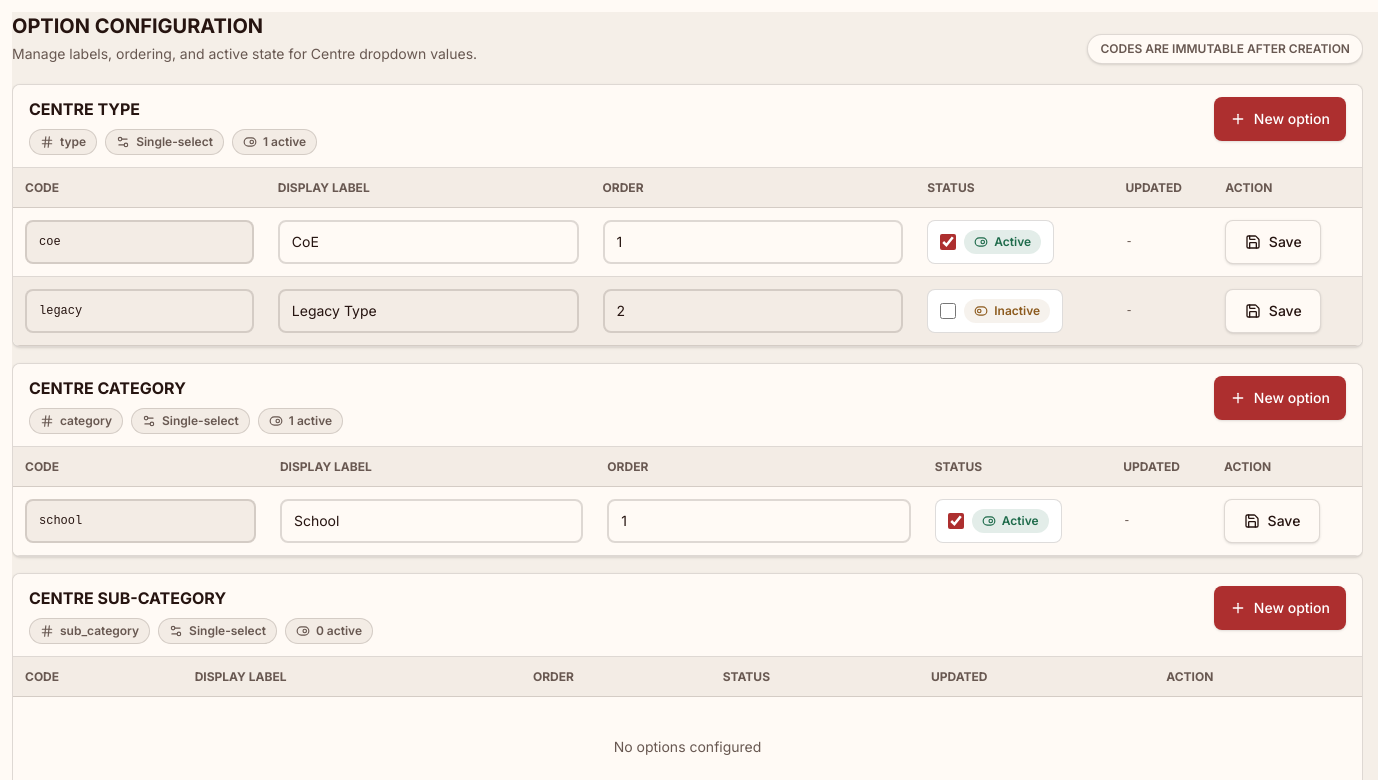
Test case: CentreOptionConfig › creates a new option with a suggested code that admins can confirm
Click the button "New option" in the row of "Centre Category": {"x": 1280, "y": 398} x1=1214 y1=376 x2=1346 y2=420
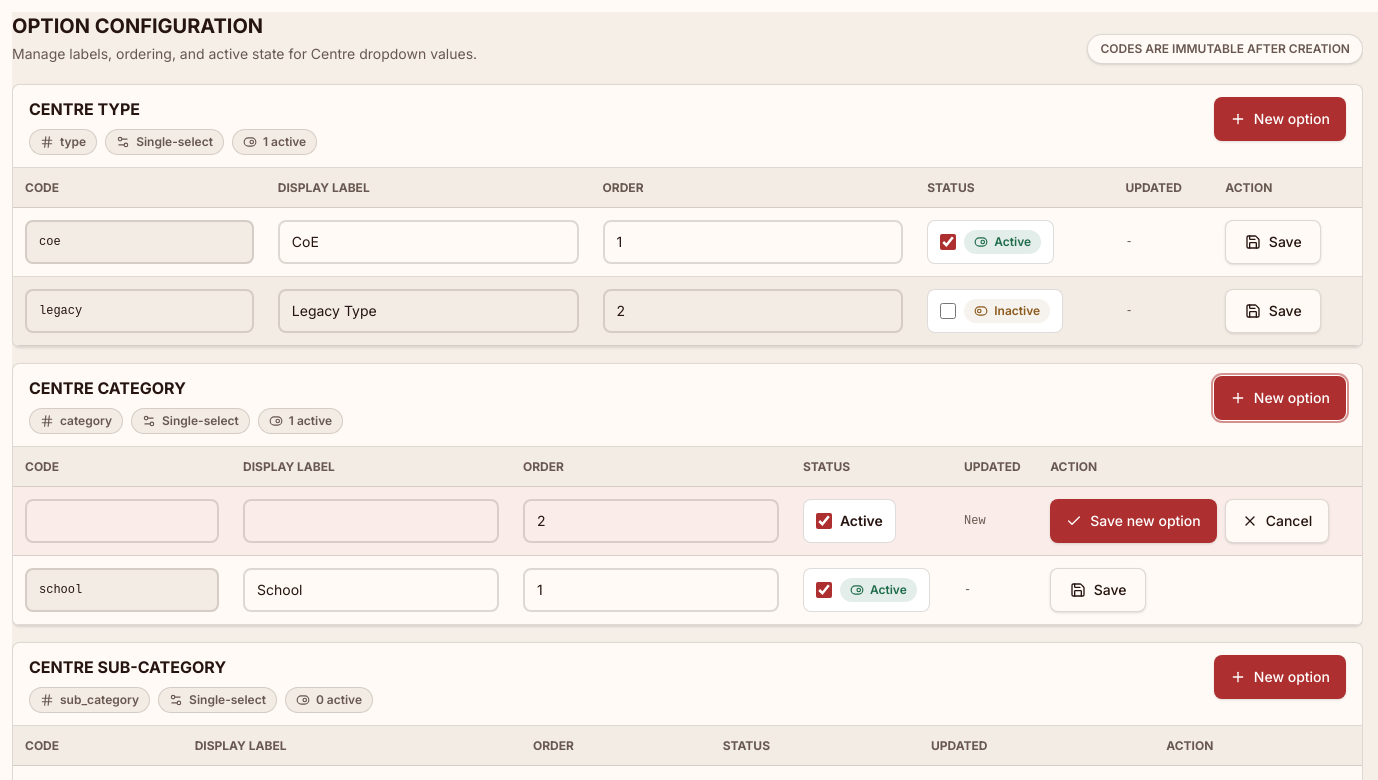
In the field named "New Centre Category label": {"x": 371, "y": 521} x1=243 y1=499 x2=499 y2=543, type "Residential Model"
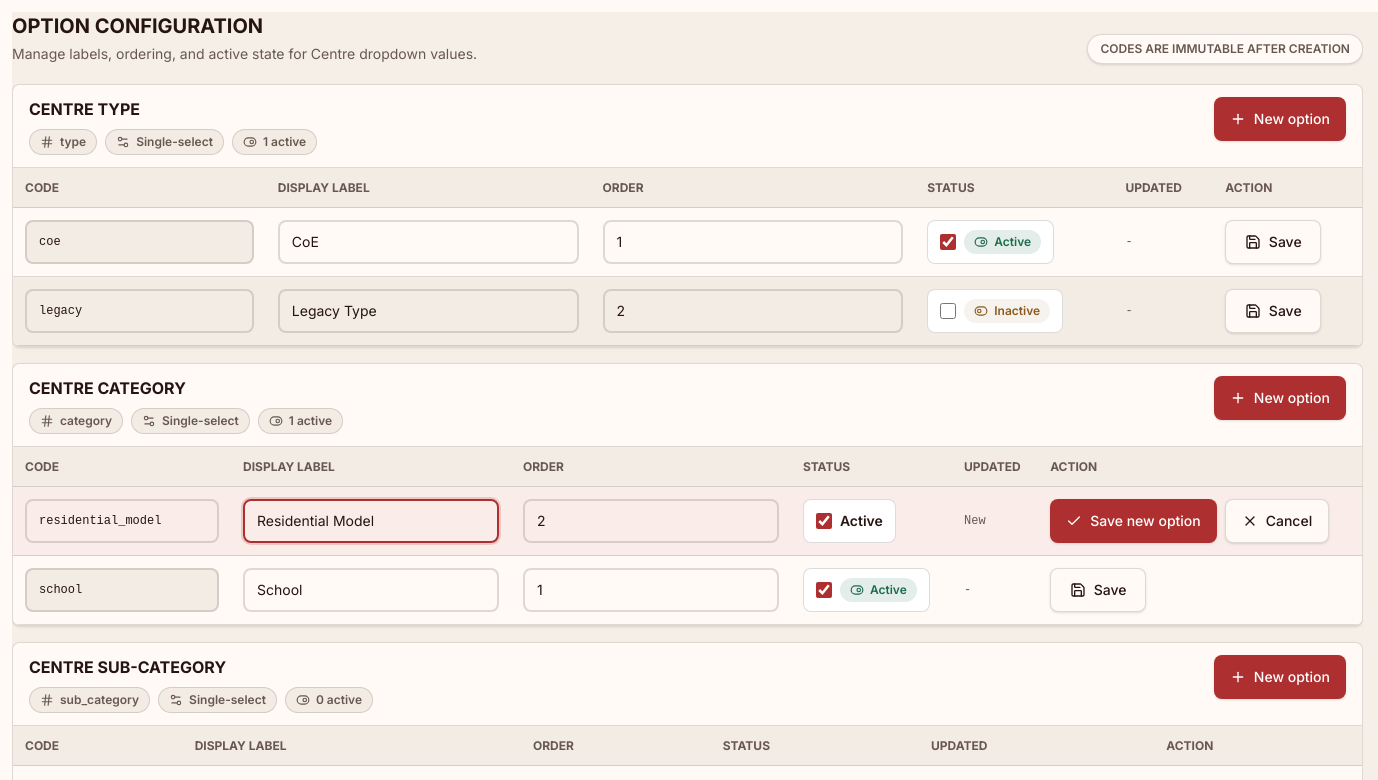
Result: the field named "New Centre Category code" holds "residential_model"
Replace the text in the field named "New Centre Category code" with "residential": {"x": 122, "y": 521} x1=25 y1=499 x2=219 y2=543
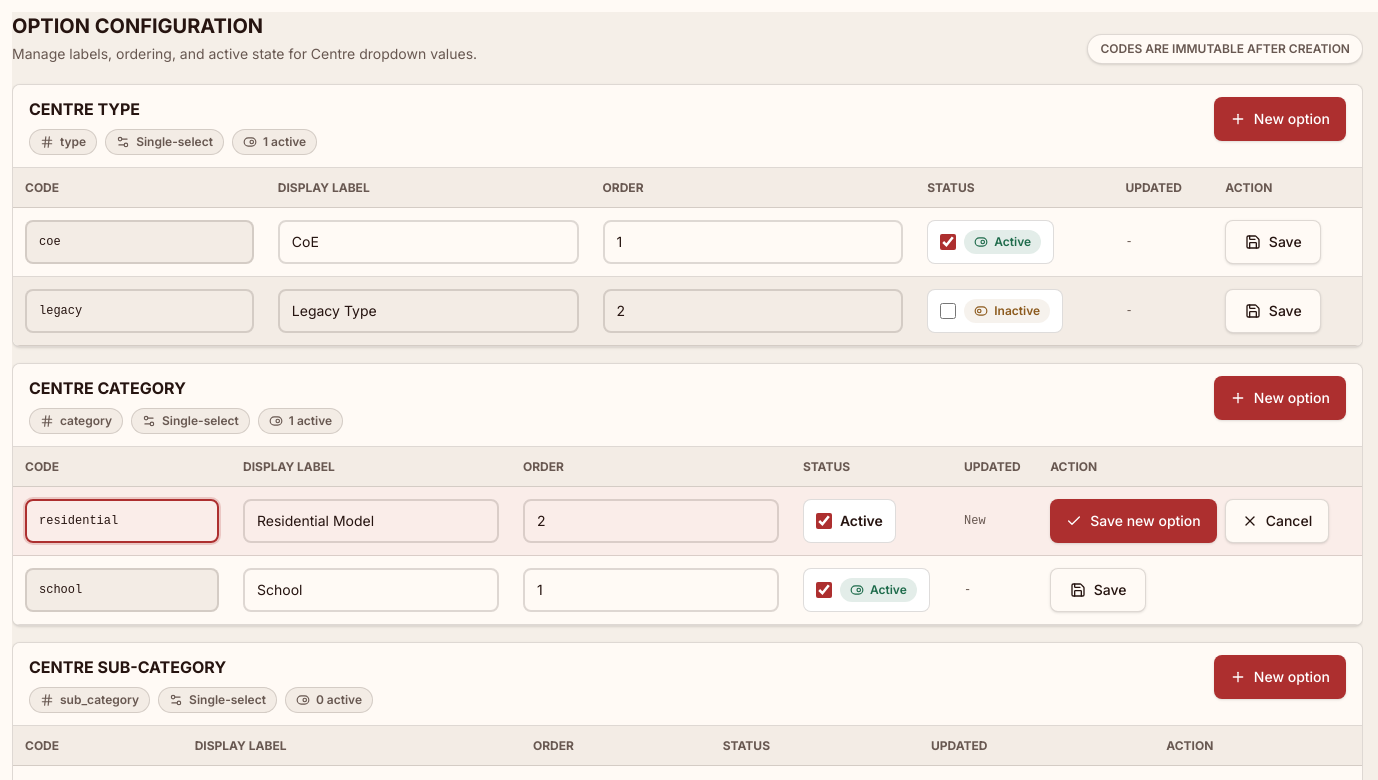
Click the button "Save new option": {"x": 1133, "y": 521} x1=1050 y1=499 x2=1217 y2=543
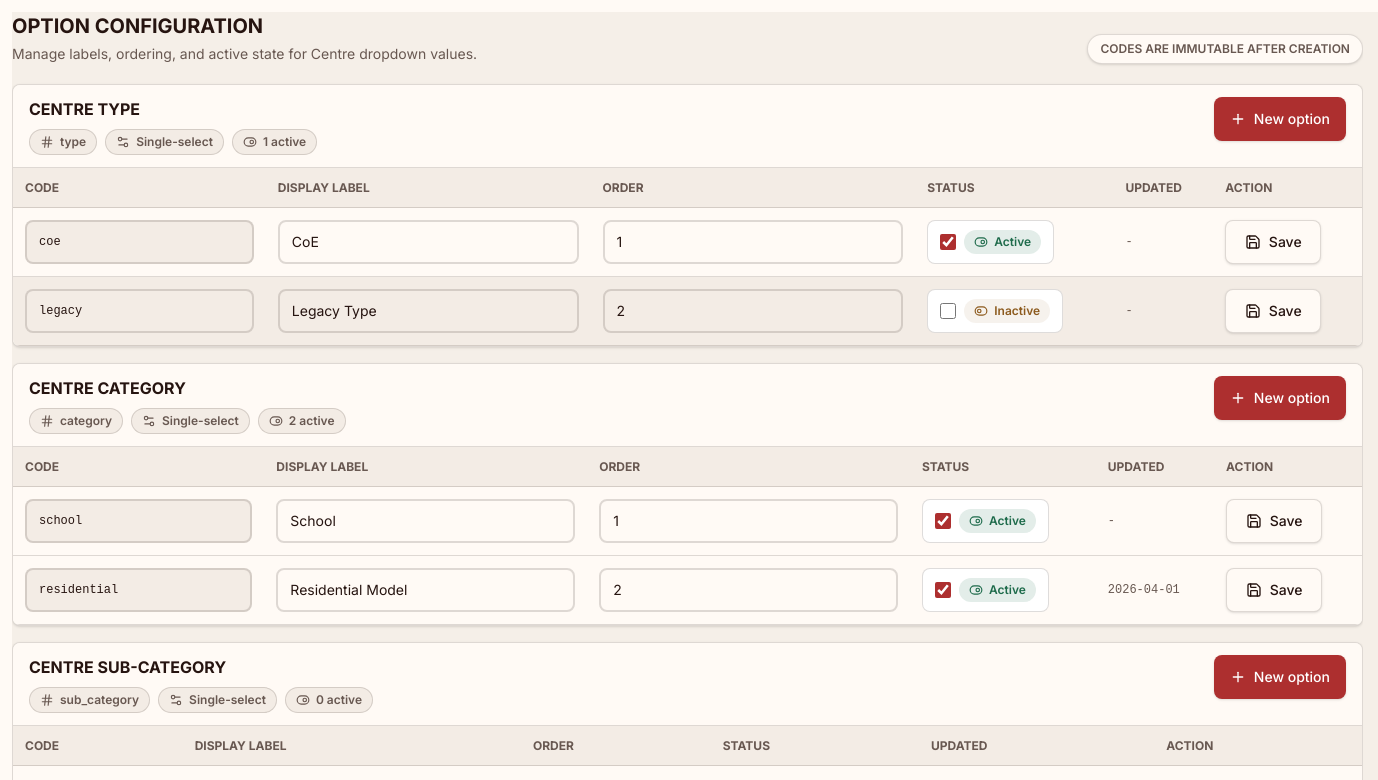
Result: the field showing "Residential Model" is shown at x1=276 y1=568 x2=575 y2=612
Result: the field showing "residential" is disabled at x1=25 y1=568 x2=252 y2=612
Result: the text "2026-04-01" is shown at x1=1108 y1=583 x2=1180 y2=597
